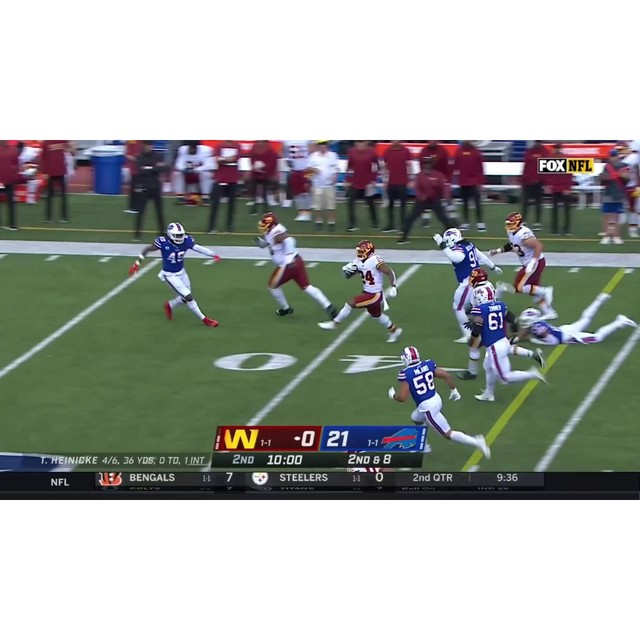american-football-player: (389, 343, 489, 466), (465, 284, 546, 403), (137, 220, 221, 328), (255, 211, 334, 324), (323, 240, 401, 343), (432, 227, 499, 346), (494, 213, 557, 316), (519, 304, 639, 348)
